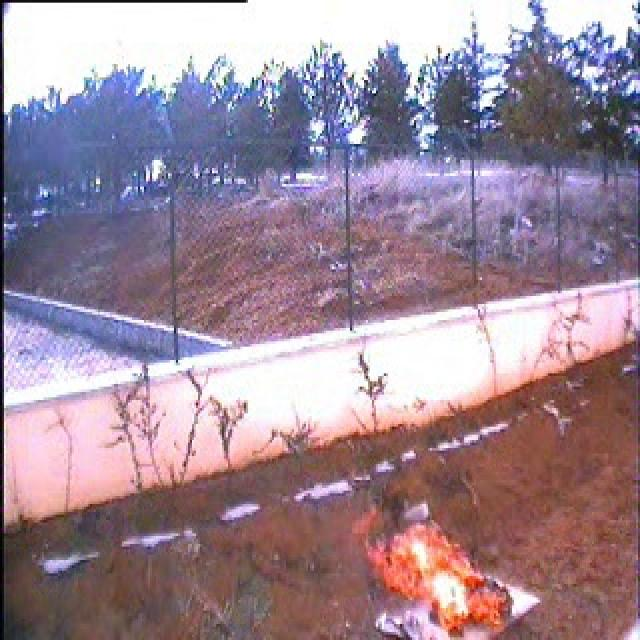fire: (377, 529, 510, 624)
